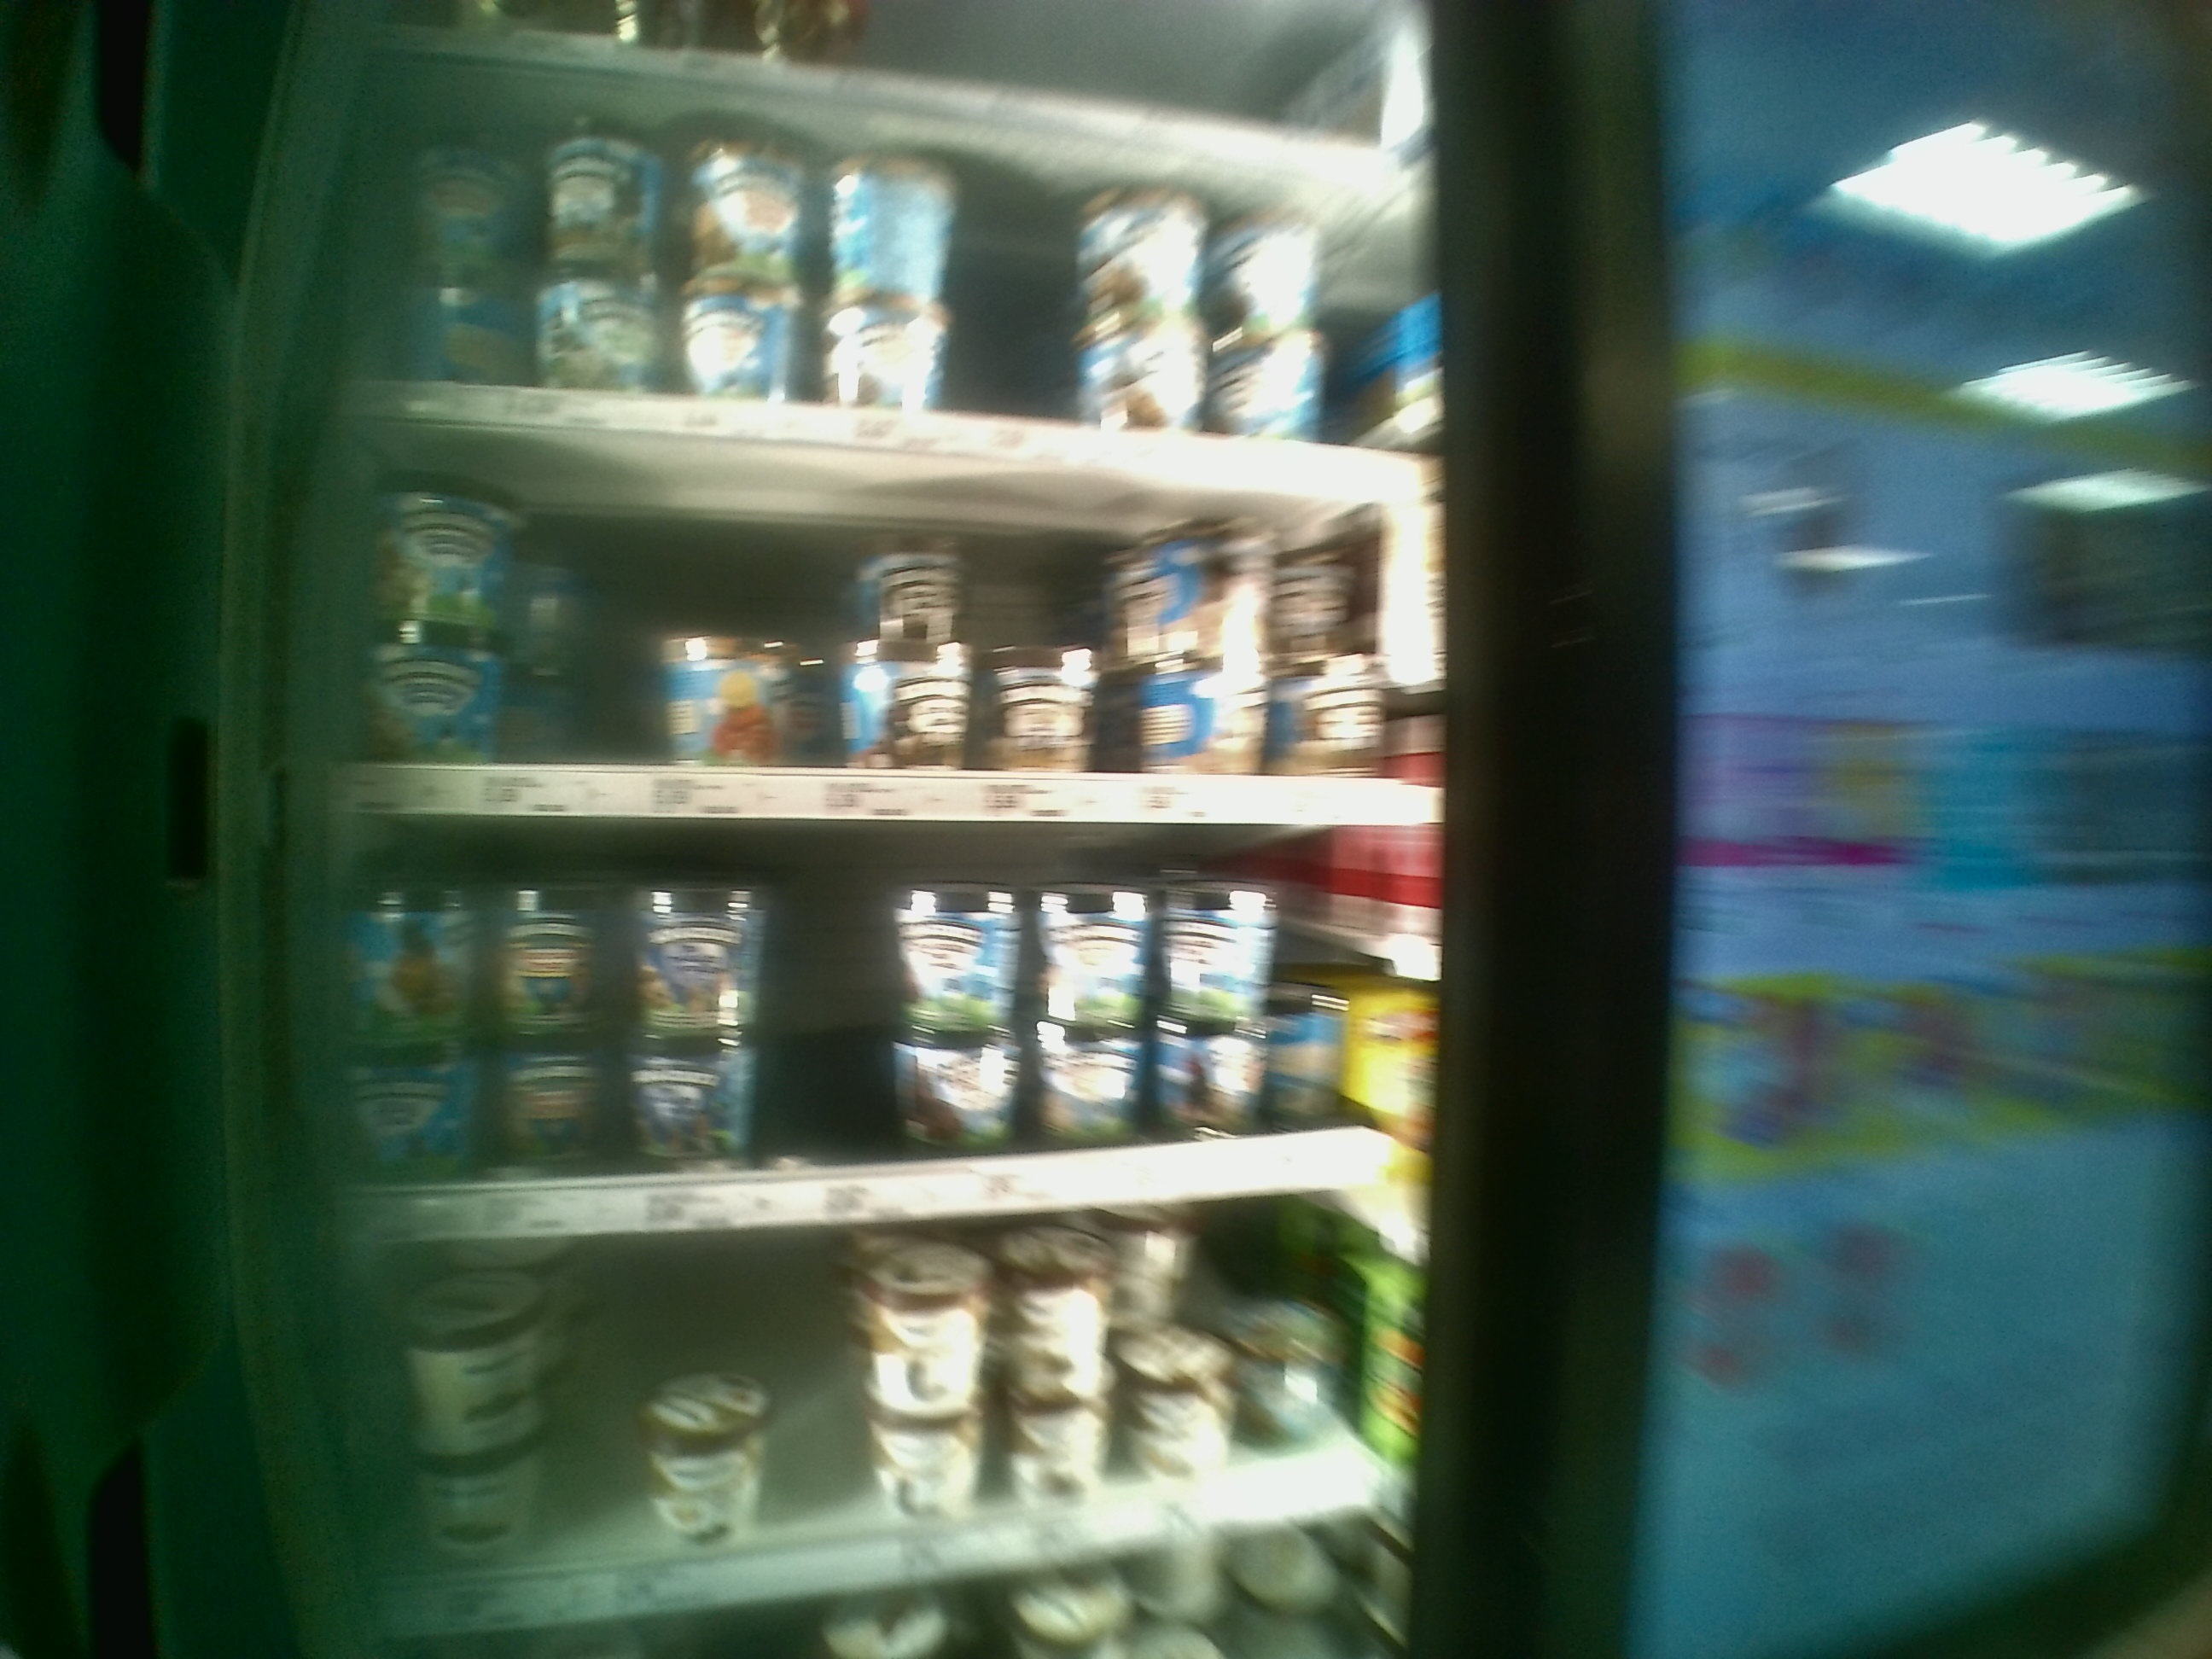shelf: (315, 812, 1456, 1244), (324, 404, 1439, 812)
